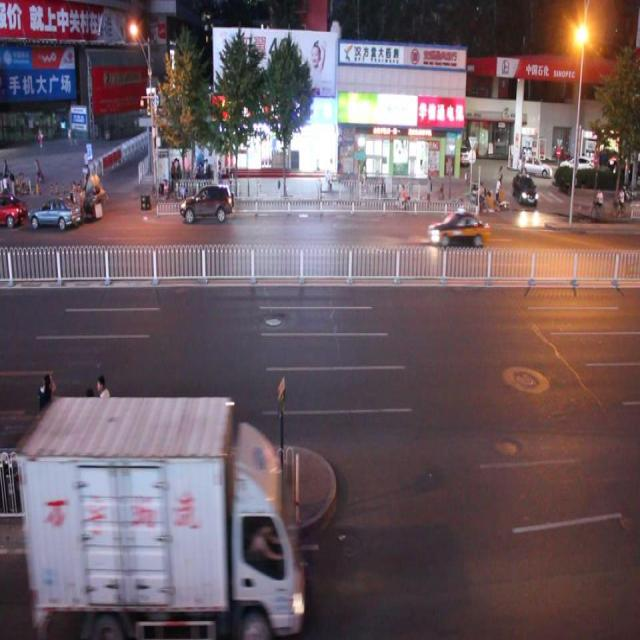bus: (21, 397, 304, 640)
car: (427, 207, 488, 248), (180, 183, 234, 222), (29, 195, 82, 233)
